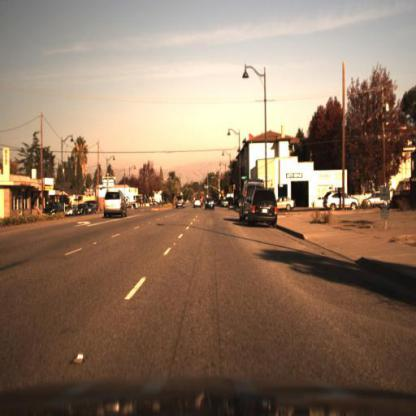car: (249, 187, 280, 229), (239, 176, 265, 223), (102, 189, 132, 227), (325, 189, 363, 214), (322, 188, 359, 212), (360, 187, 388, 212), (238, 181, 253, 227), (275, 193, 296, 217), (82, 195, 103, 216), (203, 196, 220, 219), (41, 202, 59, 223), (174, 191, 187, 215), (72, 199, 85, 220), (76, 202, 91, 219), (63, 204, 78, 220), (90, 202, 102, 219), (191, 197, 203, 214)
